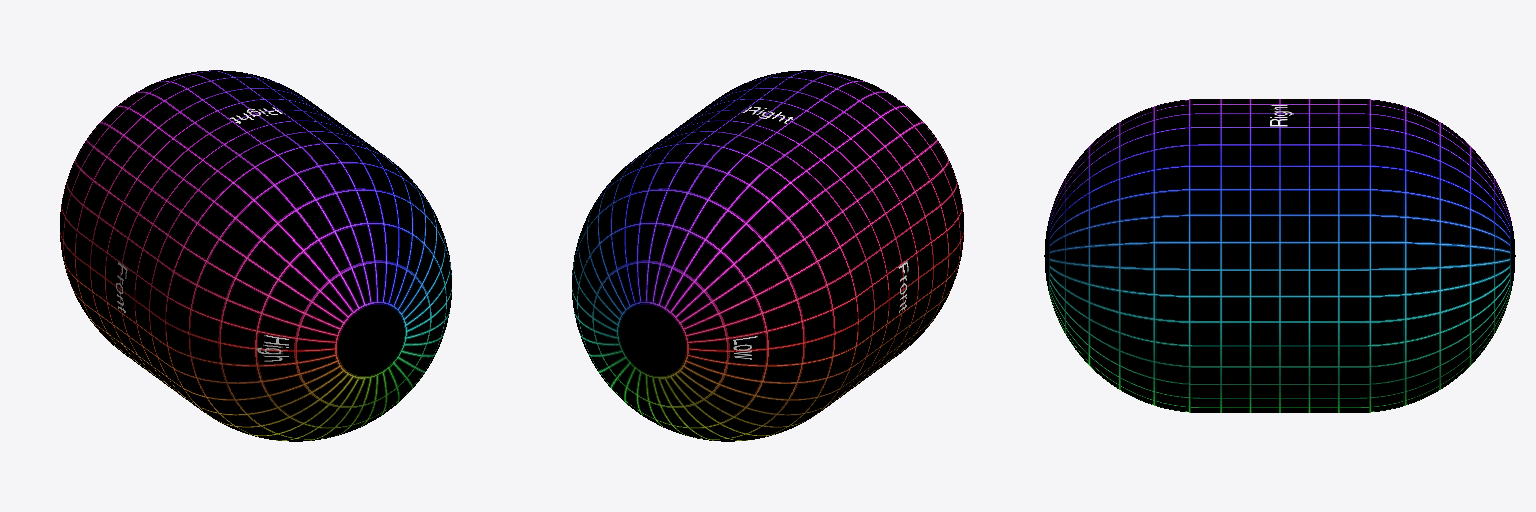
The picture shows the model from 3 angles: view 1: azimuth 30°, elevation 25°; view 2: azimuth 150°, elevation 25°; view 3: azimuth 270°, elevation 25°; orthographic projection.
Bounding box in the file's own units: 2 × 2 × 3.
1 materials, 1 textured.